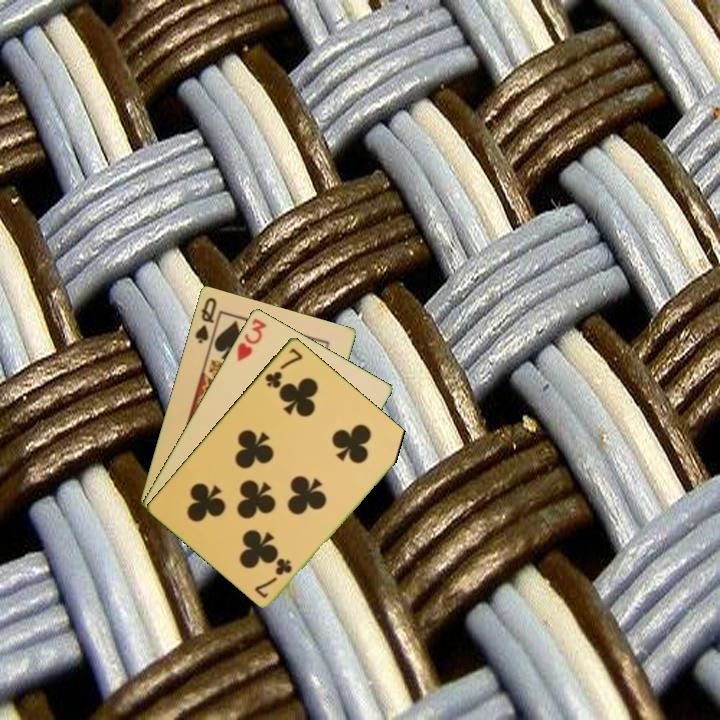3h: (233, 314, 269, 364)
7c: (261, 344, 306, 391), (252, 555, 295, 601)
Qs: (191, 293, 219, 347)
